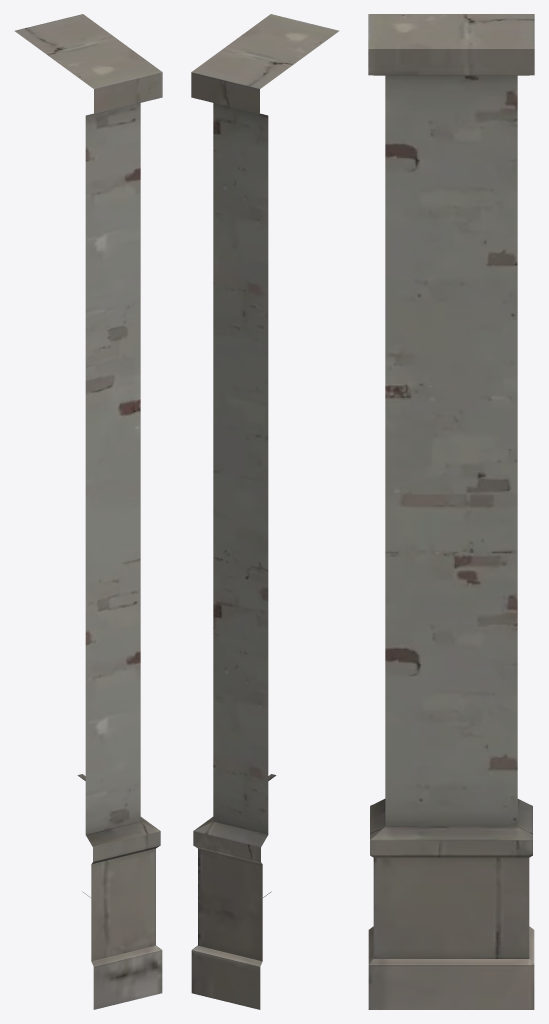
3 renders of one model, left to right at view 1: azimuth 30°, elevation 25°; view 2: azimuth 150°, elevation 25°; view 3: azimuth 270°, elevation 25°, orthographic. The views are drawn at different scales.
Parts seen in each view (by area): view 1: body0_model0_lod0_mesh0; view 2: body0_model0_lod0_mesh0; view 3: body0_model0_lod0_mesh0.
Boxes of the visible parts, <box> form: body0_model0_lod0_mesh0: <box>14,14,162,1009</box>; body0_model0_lod0_mesh0: <box>191,14,339,1009</box>; body0_model0_lod0_mesh0: <box>368,14,534,1009</box>.
Size of the model in its own units: 20.06 by 256 by 40.13.
Materials: 1 (1 with a texture image).
